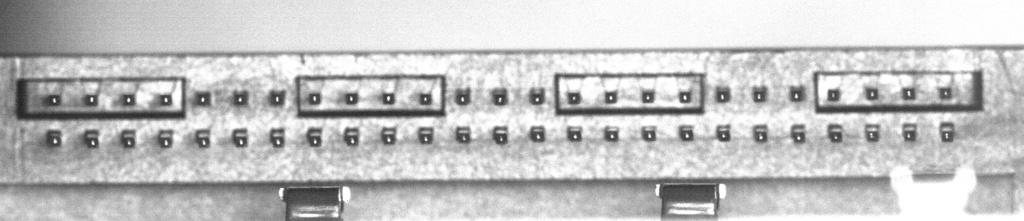pin_ok: (157, 129, 174, 149), (454, 87, 472, 105), (306, 128, 323, 147), (827, 123, 844, 142), (195, 128, 211, 148), (269, 127, 285, 147), (492, 126, 509, 144), (491, 87, 508, 105), (232, 128, 248, 147), (84, 129, 100, 148), (120, 129, 136, 148), (940, 122, 955, 142), (529, 125, 546, 142), (269, 89, 286, 106), (455, 125, 471, 143), (418, 126, 434, 144), (529, 86, 545, 104), (381, 126, 397, 144), (865, 123, 880, 142), (902, 123, 917, 142), (791, 124, 806, 143), (232, 89, 248, 106), (46, 129, 62, 146), (753, 124, 768, 142), (344, 127, 359, 145), (789, 85, 805, 101), (641, 125, 657, 141), (603, 125, 619, 141), (195, 90, 211, 106), (716, 124, 731, 141), (752, 85, 767, 102), (567, 125, 582, 141), (715, 86, 730, 102), (679, 125, 694, 141), (566, 90, 581, 105), (901, 86, 916, 100), (826, 88, 841, 102), (641, 88, 655, 103), (344, 91, 358, 105), (939, 86, 953, 100), (419, 91, 433, 105), (864, 87, 879, 100), (678, 90, 692, 103), (84, 93, 98, 106), (604, 90, 617, 104), (307, 91, 321, 104), (382, 91, 395, 104), (122, 93, 136, 105), (46, 94, 60, 106), (160, 94, 173, 106)
